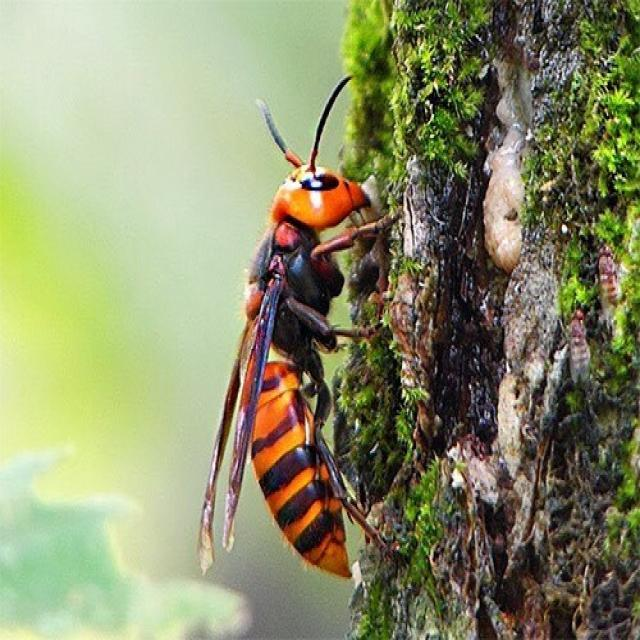Wasp: (206, 63, 369, 581)
